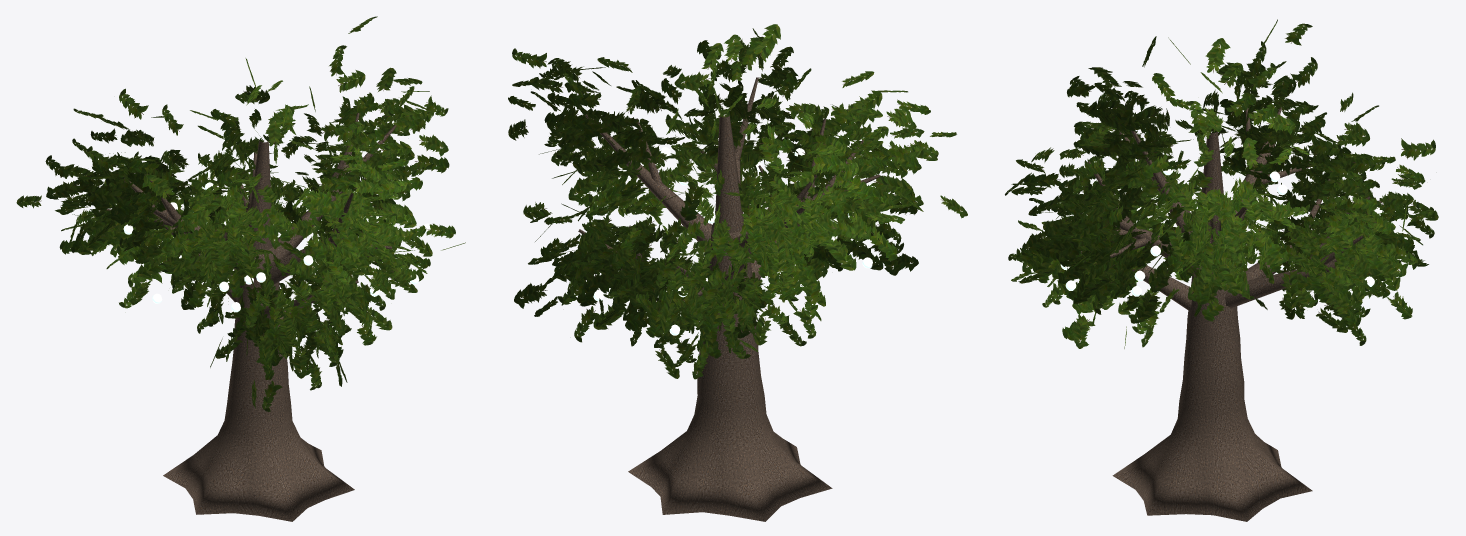
File: giant_tree.glb
The picture shows the model from 3 angles, left to right: view 1: azimuth 30°, elevation 25°; view 2: azimuth 150°, elevation 25°; view 3: azimuth 270°, elevation 25°; orthographic projection. The views are drawn at different scales.
Parts seen in each view (by area): view 1: GiantTree; view 2: GiantTree; view 3: GiantTree.
Boxes of the visible parts, x1=… form: GiantTree: x1=16, y1=16, x2=465, y2=521; GiantTree: x1=508, y1=24, x2=967, y2=521; GiantTree: x1=1005, y1=19, x2=1438, y2=521.
Bounding box in the file's own units: 27.15 × 28.79 × 26.49.
3 materials, 2 textured.
